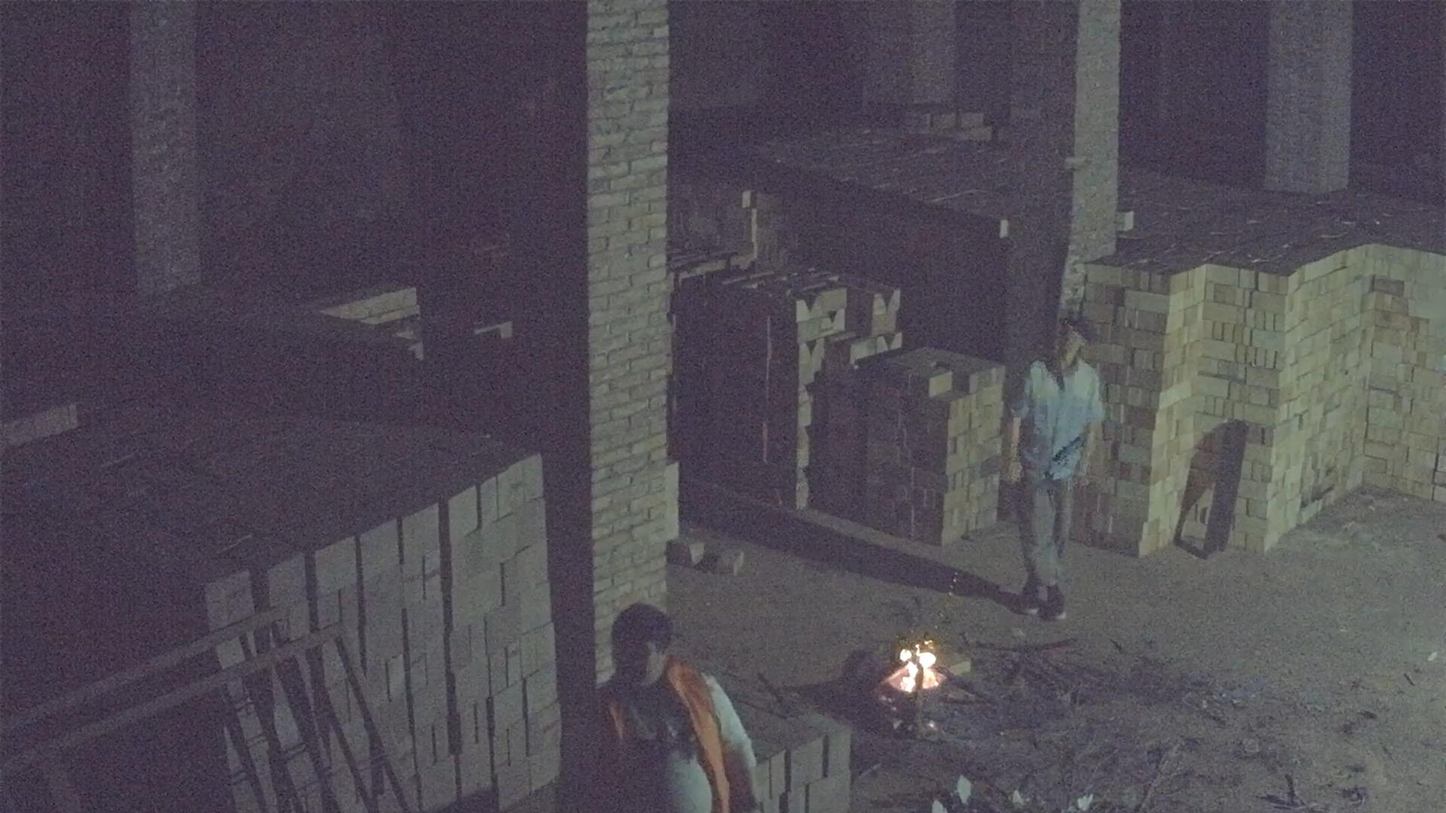fire: (897, 641, 938, 693)
